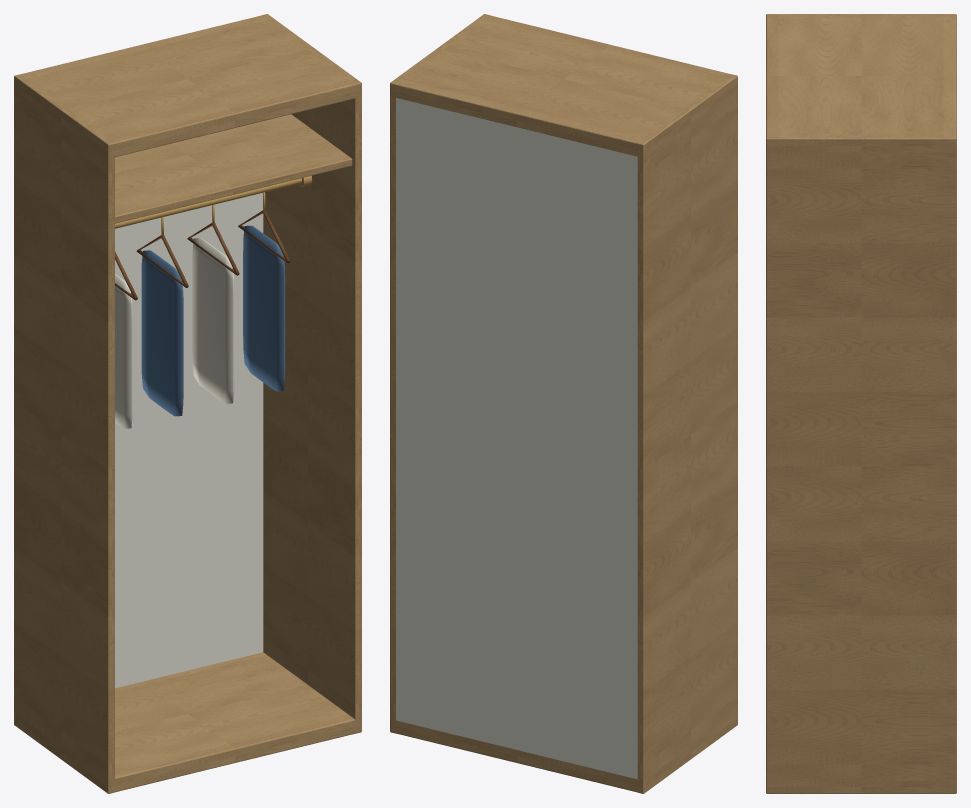
File: walk-in-hanging-module-original-interior-furnishing.glb
3 views of the same model, side by side, from view 1: azimuth 30°, elevation 25°; view 2: azimuth 150°, elevation 25°; view 3: azimuth 270°, elevation 25° (orthographic).
Parts seen in each view (by area): view 1: Cabinet side, Cabinet back, Cabinet side.001, Cabinet top bottom.001, Cabinet top bottom, Hat shelf, Hanging folded shirt.001, Hanging folded shirt.002, Hanging folded shirt.003, Hanging folded shirt, Wardrobe hanging rail; view 2: Cabinet back, Cabinet side, Cabinet top bottom.001, Cabinet top bottom, Cabinet side.001; view 3: Cabinet side.001, Cabinet top bottom.001, Cabinet top bottom, Cabinet side.
Part boxes in pixels (bbox=[...]): Cabinet side: bbox=[14, 74, 114, 793]; Cabinet back: bbox=[115, 193, 263, 688]; Cabinet side.001: bbox=[261, 14, 361, 733]; Cabinet top bottom.001: bbox=[14, 15, 361, 157]; Cabinet top bottom: bbox=[14, 652, 361, 792]; Hat shelf: bbox=[115, 114, 352, 223]; Hanging folded shirt.001: bbox=[141, 250, 183, 416]; Hanging folded shirt.002: bbox=[192, 238, 234, 403]; Hanging folded shirt.003: bbox=[243, 225, 285, 391]; Hanging folded shirt: bbox=[115, 274, 132, 428]; Wardrobe hanging rail: bbox=[115, 178, 302, 228]; Cabinet back: bbox=[396, 98, 637, 779]; Cabinet side: bbox=[637, 74, 737, 793]; Cabinet top bottom.001: bbox=[390, 15, 737, 157]; Cabinet top bottom: bbox=[390, 712, 737, 792]; Cabinet side.001: bbox=[390, 14, 490, 733]; Cabinet side.001: bbox=[766, 135, 956, 793]; Cabinet top bottom.001: bbox=[766, 16, 956, 152]; Cabinet top bottom: bbox=[767, 780, 955, 792]; Cabinet side: bbox=[766, 14, 956, 17].
Size of the model in its own units: 0.9 by 2.2 by 0.58.
Materials: 6 (6 with a texture image).
